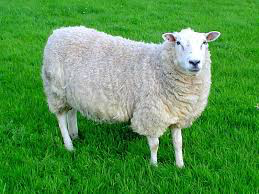koyun: (43, 28, 220, 168)
